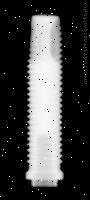Nobel Biocare: (23, 13, 64, 187)
